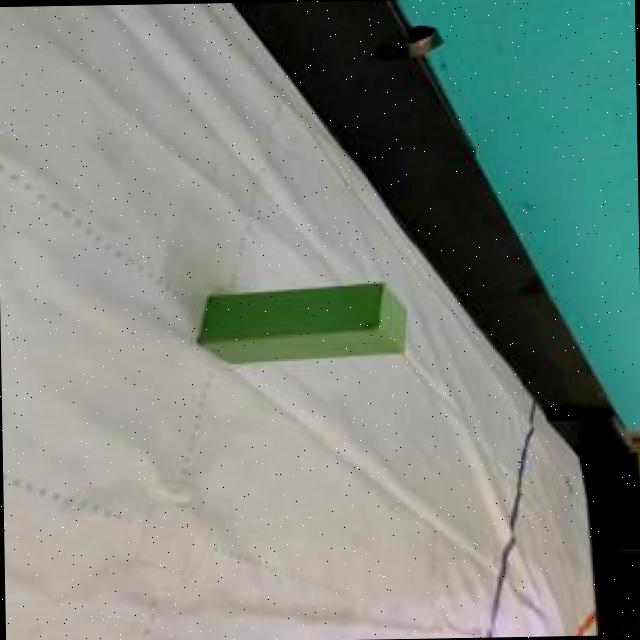greenbox: (190, 277, 409, 368)
